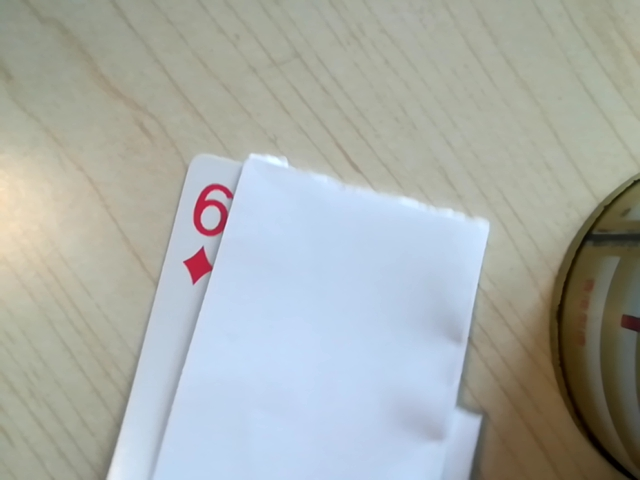fk 6: (176, 174, 242, 289)
